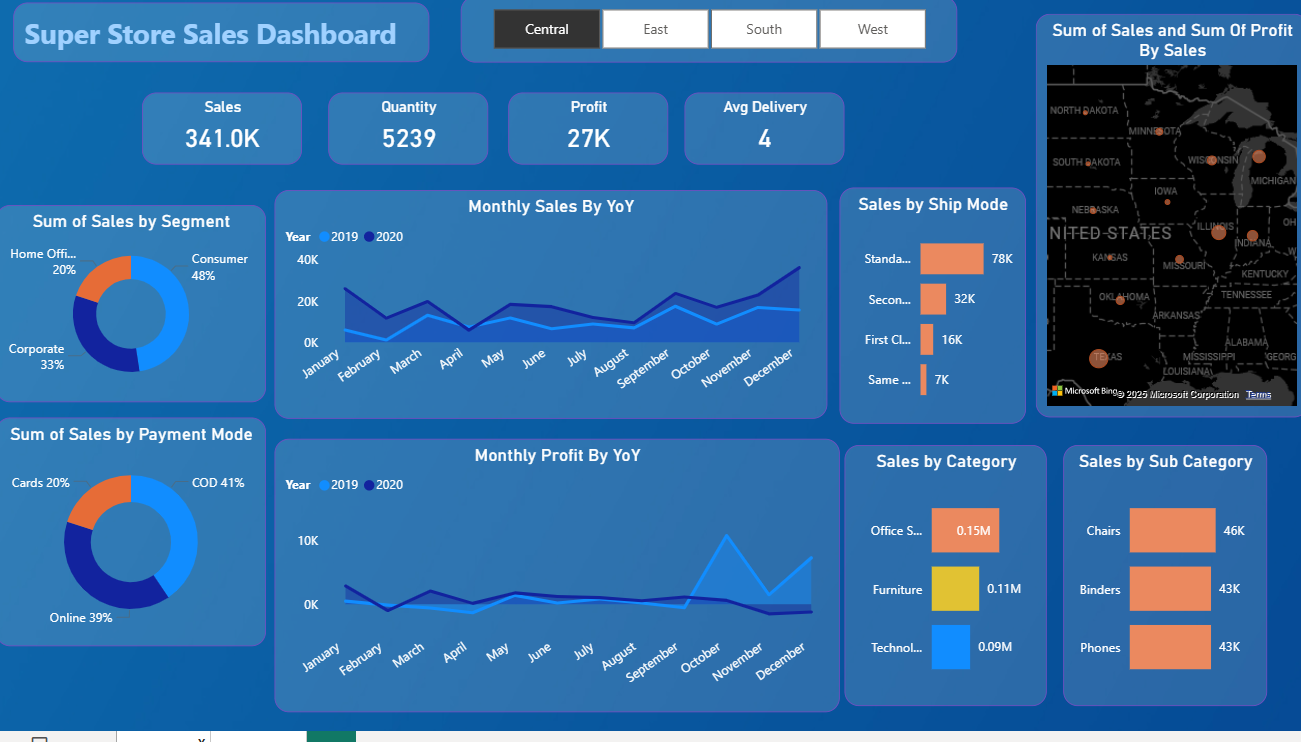

The page's visual inventory and layout, read from the dashboard file:
{"tool":"powerbi","page":{"name":"Page 1","canvas":[1280,720],"ordinal":0},"visuals":[{"type":"clusteredBarChart","title":"Sales by Category","fields":{"Category":["SuperStore_Sales_Dataset.Category"],"Y":["Sum(SuperStore_Sales_Dataset.Sales)"]},"box":[843.3,436.7,195.4,252.1],"z":0},{"type":"clusteredBarChart","title":"Sales by Sub Category","fields":{"Category":["SuperStore_Sales_Dataset.Sub-Category"],"Y":["Sum(SuperStore_Sales_Dataset.Sales)"]},"box":[1065.3,436.7,196.6,252.1],"z":1000},{"type":"areaChart","title":"Monthly Sales By YoY","fields":{"Y":["Sum(SuperStore_Sales_Dataset.Sales)"],"Series":["SuperStore_Sales_Dataset.Order Date.Variation.Date Hierarchy.Year"],"Category":["SuperStore_Sales_Dataset.Order Date.Variation.Date Hierarchy.Month","SuperStore_Sales_Dataset.Order Date.Variation.Date Hierarchy.Day"]},"box":[282.3,168.9,533.2,249.7],"z":2000},{"type":"areaChart","title":"Monthly Profit By YoY ","fields":{"Series":["SuperStore_Sales_Dataset.Order Date.Variation.Date Hierarchy.Year"],"Category":["SuperStore_Sales_Dataset.Order Date.Variation.Date Hierarchy.Month","SuperStore_Sales_Dataset.Order Date.Variation.Date Hierarchy.Day"],"Y":["Sum(SuperStore_Sales_Dataset.Profit)"]},"box":[282.3,423.5,545.3,278.7],"z":3000},{"type":"clusteredBarChart","title":"Sales by Ship Mode","fields":{"Category":["SuperStore_Sales_Dataset.Ship Mode"],"Y":["Sum(SuperStore_Sales_Dataset.Sales)"]},"box":[827.6,177.3,179.8,228],"z":4000},{"type":"map","title":"Sum of Sales and Sum Of Profit By Sales ","fields":{"Category":["SuperStore_Sales_Dataset.State"],"Size":["Sum(SuperStore_Sales_Dataset.Sales)"]},"box":[1017,27.7,263,389.7],"z":5000},{"type":"donutChart","fields":{"Category":["SuperStore_Sales_Dataset.Segment"],"Y":["Sum(SuperStore_Sales_Dataset.Sales)"]},"box":[13.3,182.2,260.6,190.6],"z":6000},{"type":"donutChart","fields":{"Category":["SuperStore_Sales_Dataset.Payment Mode"],"Y":["Sum(SuperStore_Sales_Dataset.Sales)"]},"box":[13.3,405.4,260.6,220.8],"z":7000},{"type":"slicer","fields":{"Values":["SuperStore_Sales_Dataset.Region"]},"box":[450,10.9,491,48.3],"z":8000},{"type":"textbox","box":[13.3,10.9,418.6,56.7],"z":9000},{"type":"card","title":"Orders ","fields":{"Values":["Sum(SuperStore_Sales_Dataset.Sales)"]},"box":[143.6,78.4,154.4,70],"z":10000},{"type":"card","title":"Sales","fields":{"Values":["Sum(SuperStore_Sales_Dataset.Quantity)"]},"box":[325.7,78.4,154.4,70],"z":11000},{"type":"card","title":"Profit","fields":{"Values":["Sum(SuperStore_Sales_Dataset.Profit)"]},"box":[499.5,78.4,154.4,70],"z":12000},{"type":"card","title":"Ship Days","fields":{"Values":["Avg(SuperStore_Sales_Dataset.AvgDelivery)"]},"box":[673.2,78.4,154.4,70],"z":13000}]}

Visuals, with their boxes in screenshot pixels (x1, y1, x2, y2), scaled from the page's 1280x720 canvas onto the 1301x742 screenshot:
"Sales by Category" clusteredBarChart: {"x1": 857, "y1": 450, "x2": 1056, "y2": 710}
"Sales by Sub Category" clusteredBarChart: {"x1": 1083, "y1": 450, "x2": 1283, "y2": 710}
"Monthly Sales By YoY" areaChart: {"x1": 287, "y1": 174, "x2": 829, "y2": 431}
"Monthly Profit By YoY " areaChart: {"x1": 287, "y1": 436, "x2": 841, "y2": 724}
"Sales by Ship Mode" clusteredBarChart: {"x1": 841, "y1": 183, "x2": 1024, "y2": 418}
"Sum of Sales and Sum Of Profit By Sales " map: {"x1": 1034, "y1": 29, "x2": 1300, "y2": 430}
donutChart - SuperStore_Sales_Dataset.Segment x Sum(SuperStore_Sales_Dataset.Sales): {"x1": 14, "y1": 188, "x2": 278, "y2": 384}
donutChart - SuperStore_Sales_Dataset.Payment Mode x Sum(SuperStore_Sales_Dataset.Sales): {"x1": 14, "y1": 418, "x2": 278, "y2": 645}
slicer - SuperStore_Sales_Dataset.Region: {"x1": 457, "y1": 11, "x2": 956, "y2": 61}
textbox: {"x1": 14, "y1": 11, "x2": 439, "y2": 70}
"Orders " card: {"x1": 146, "y1": 81, "x2": 303, "y2": 153}
"Sales" card: {"x1": 331, "y1": 81, "x2": 488, "y2": 153}
"Profit" card: {"x1": 508, "y1": 81, "x2": 665, "y2": 153}
"Ship Days" card: {"x1": 684, "y1": 81, "x2": 841, "y2": 153}
